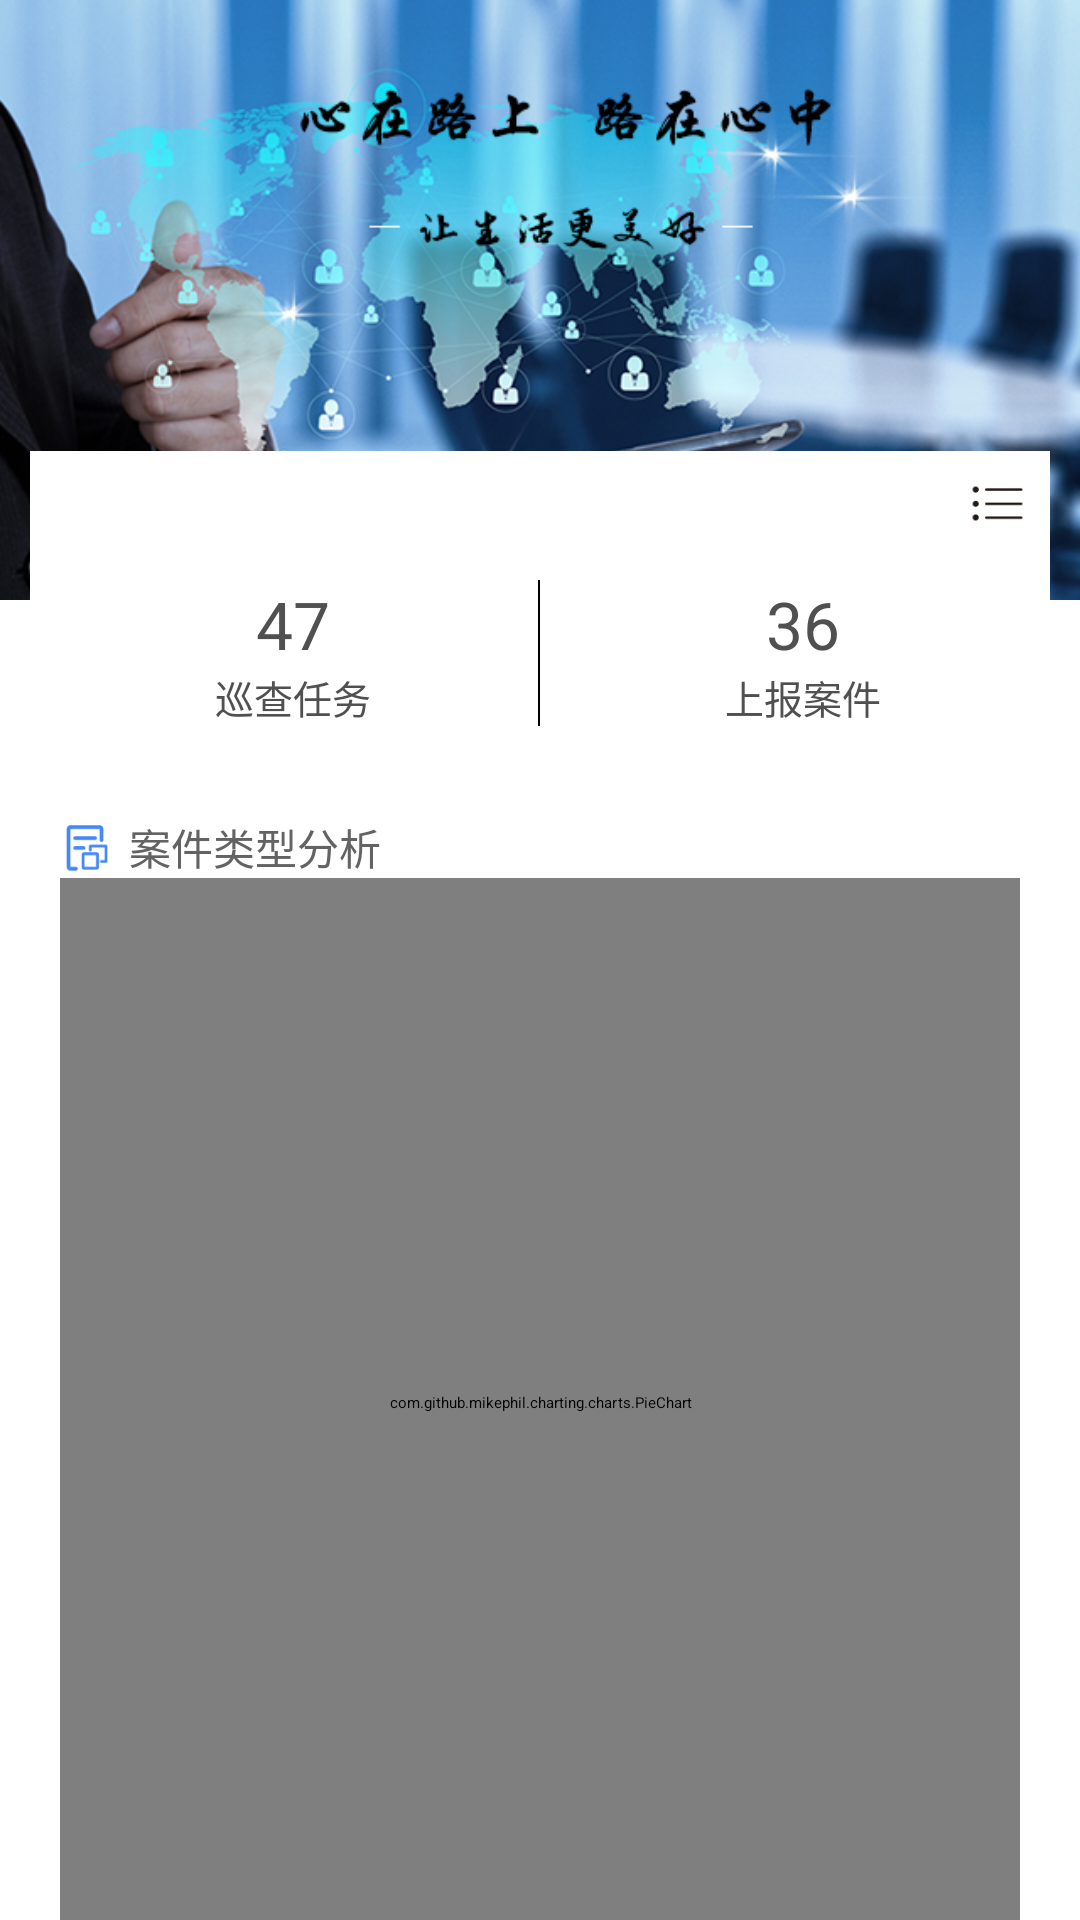

Named icons in this screenshot (1080x1920) and their centers, (x=x, y=y):
iconselect: (x=997, y=503)
